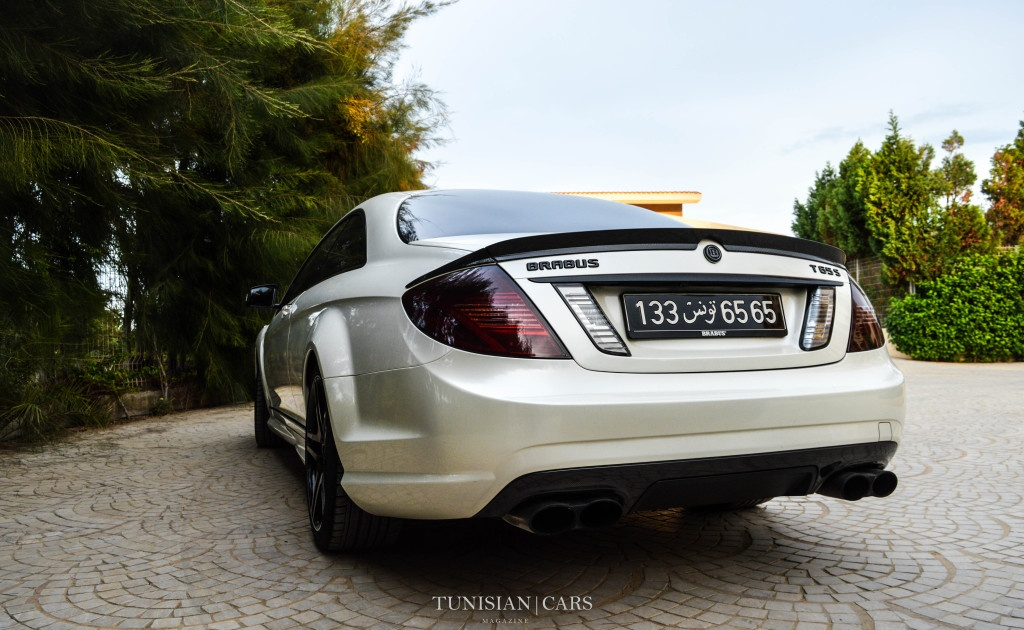LP: (617, 287, 791, 342)
